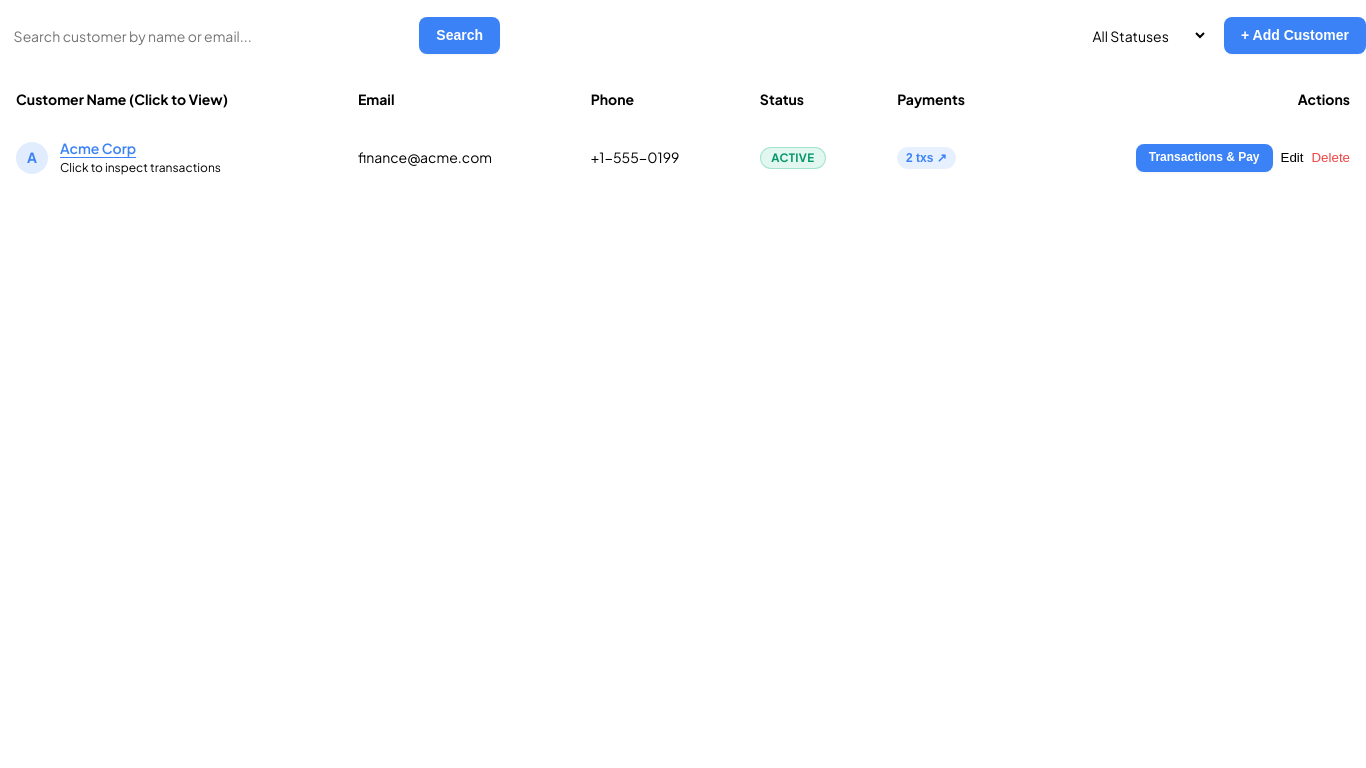
Test: CustomerManager Component Tests › opens Customer Transactions and History view when clicking Transactions & Pay
Expected: the text "Acme Corp" is shown, [60,139,136,157]
Click the button "Transactions & Pay" at point(1204, 158), box [1136,144,1272,172]
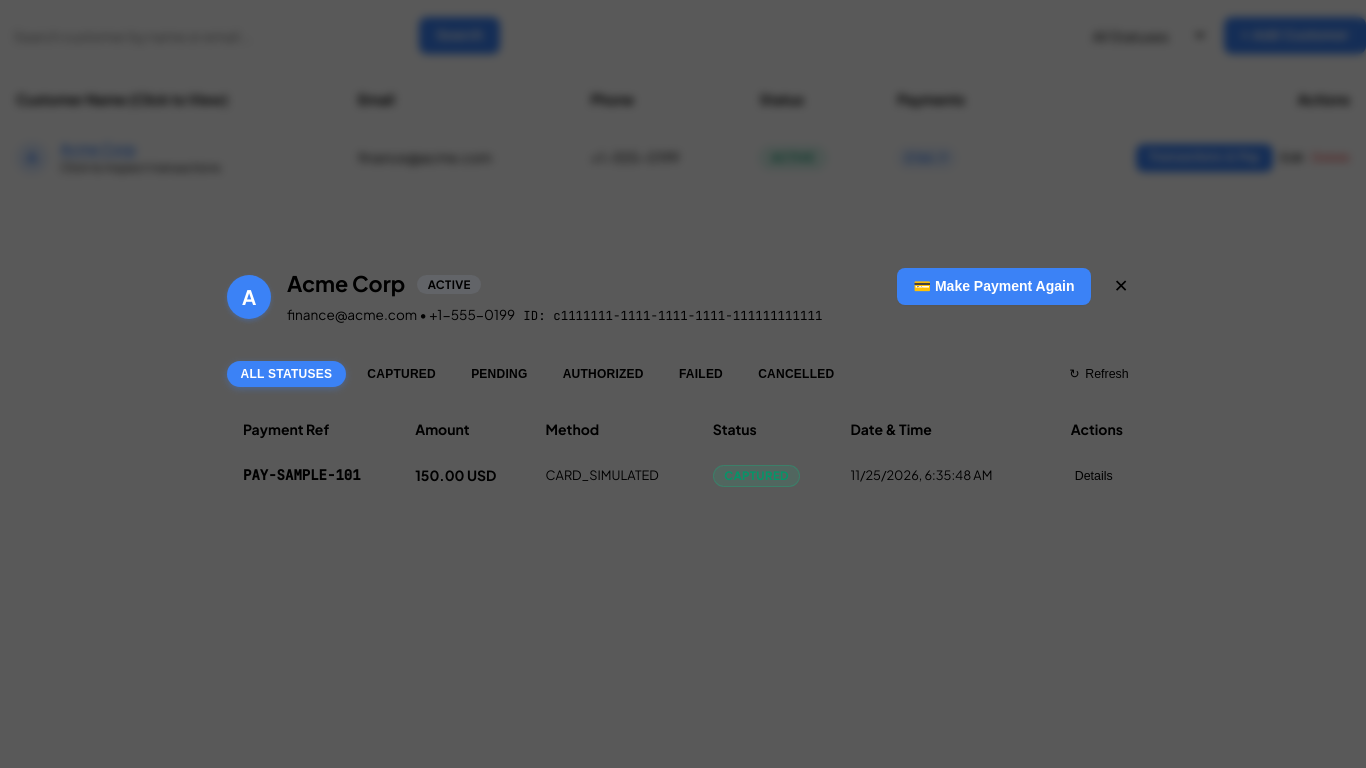
Now the button "💳 Make Payment Again" is shown, box [897,268,1092,305]
Now the text "PAY-SAMPLE-101" is shown, box [227,452,399,500]
Now the text "150.00 USD" is shown, box [399,452,530,500]
